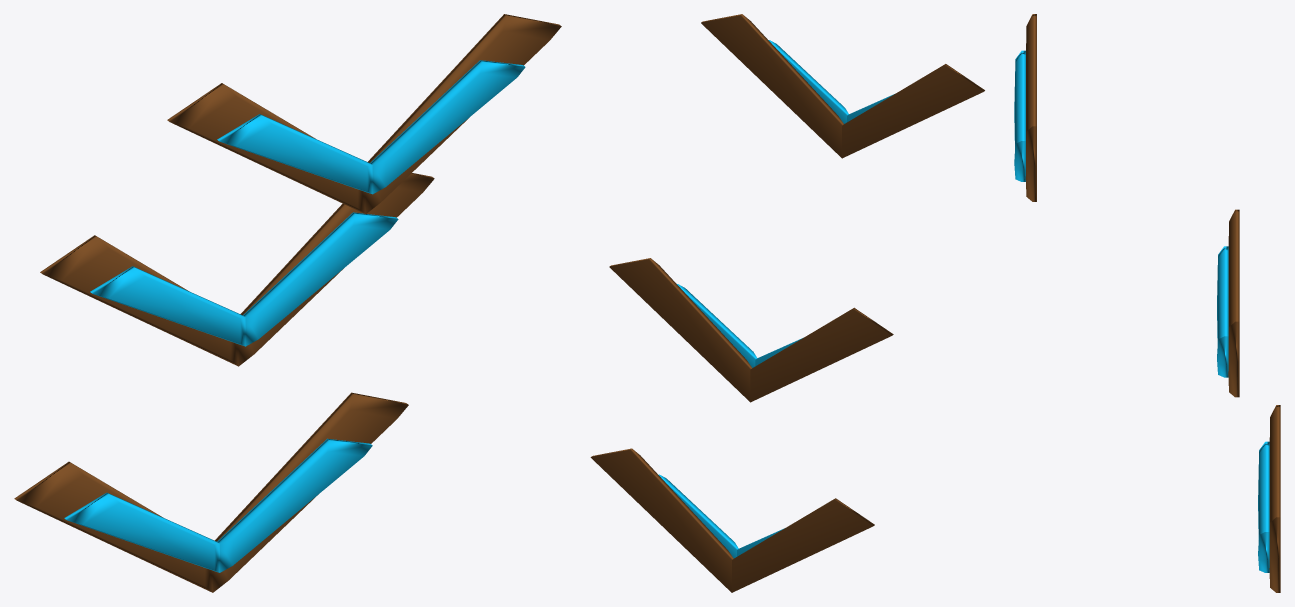
The model's file is Nerok-Abyss-authored-details.obj.
The picture shows the model from 3 angles, left to right: view 1: azimuth 30°, elevation 25°; view 2: azimuth 150°, elevation 25°; view 3: azimuth 270°, elevation 25°; orthographic projection. The views are drawn at different scales.
Size of the model in its own units: 0.082 by 0.1308 by 0.0605.
